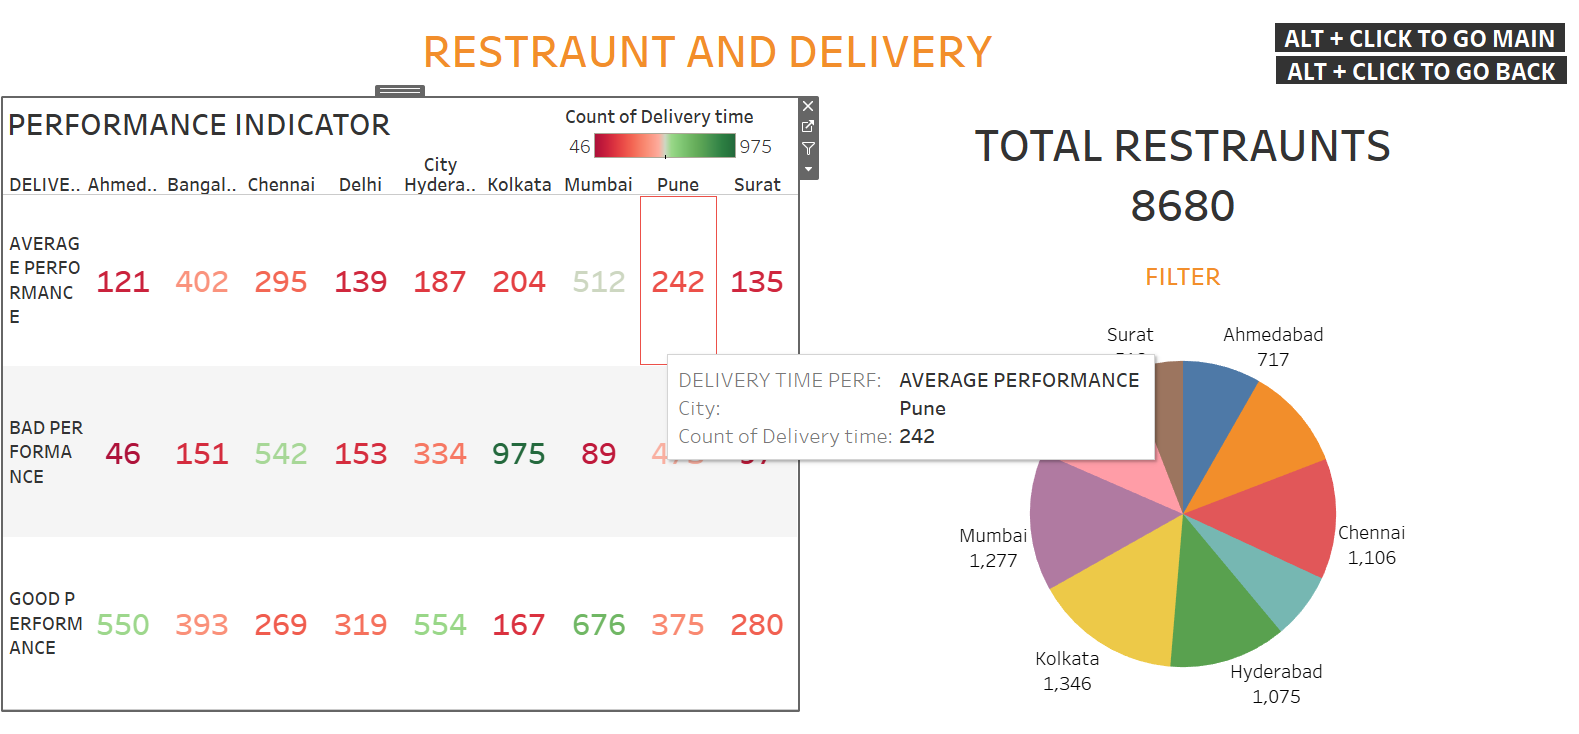

The page's visual inventory and layout, read from the dashboard file:
{"tool":"tableau","page":{"name":"Dashboard 3","canvas":[1000,1000],"units":"permille","ordinal":2},"visuals":[{"type":"text","box":[245.6,12.1,404.6,122]},{"type":"dashboard-object","box":[801.8,38.9,180.8,38.9]},{"type":"dashboard-object","box":[802.4,83.1,181.4,37.5]},{"type":"worksheet","title":"PMIC","mark":"Automatic","rows":["Calculation_1323776838364680192"],"cols":["City"],"box":[8.7,139.4,495.6,820.4]},{"type":"legend","title":"PMIC","param":"[federated.0ywou970dzrzru12fkqnz0qyjocf].[cnt:Delivery time:qk]","box":[359.1,146.1,132.2,75.1]},{"type":"worksheet","title":"TOTREST","mark":"Pie","box":[539.9,154.2,409,804.3]}]}

Visuals, with their boxes on the dashboard's canvas, which has no fixed pixel size, in thousandths of its width and height (x1, y1, x2, y2). These are canvas units, not pixel positions in the 1579x734 screenshot, which may show the page scaled, cropped or inside an application window:
text: 246:12:650:134
dashboard-object: 802:39:983:78
dashboard-object: 802:83:984:121
"PMIC" worksheet: 9:139:504:960
"PMIC" legend: 359:146:491:221
"TOTREST" worksheet (Pie marks): 540:154:949:958
